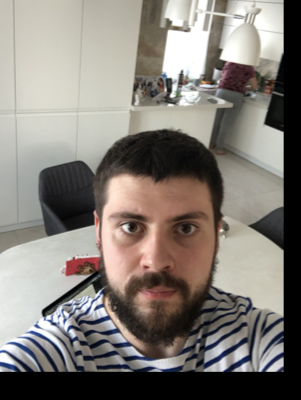without_mask: (104, 197, 215, 345)
